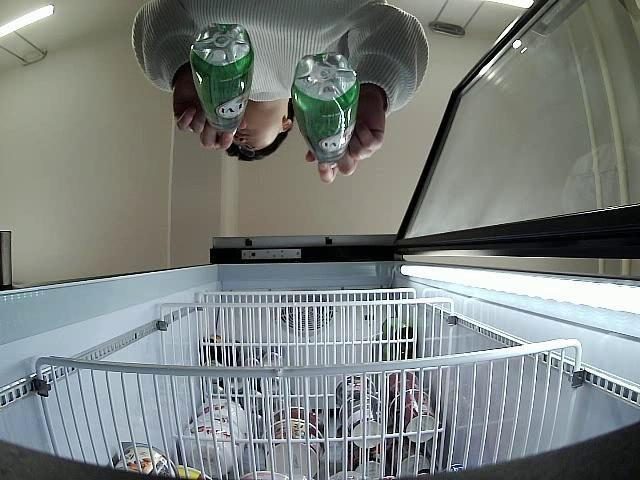18_trevi: (292, 51, 358, 170), (191, 23, 255, 138)
